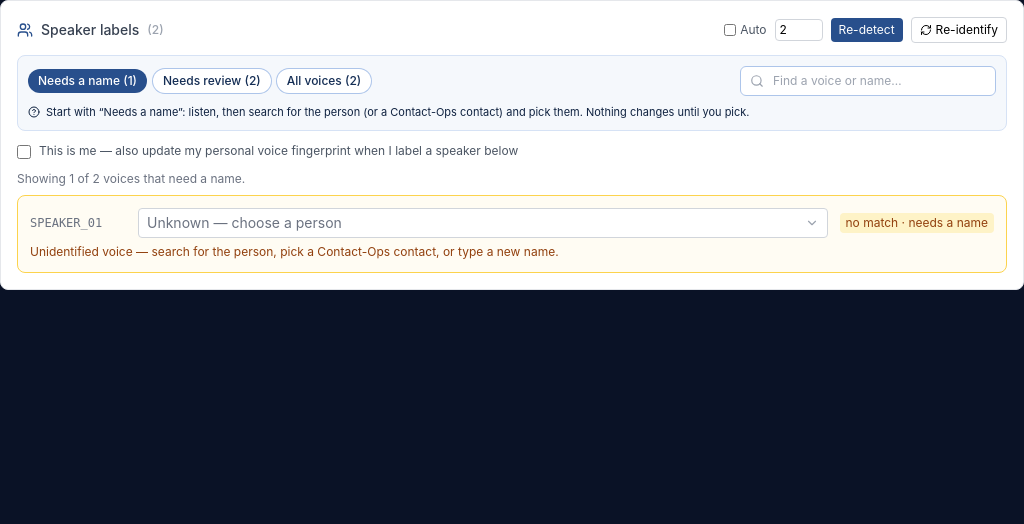
Test: SpeakerTagger › hides unnamed voiceprints until the search matches them
This screenshot has width=1024, height=524.
Expected: the text "SPEAKER_01" is shown, left=30, top=216, right=102, bottom=230
Click the button with aria-label "Speaker for SPEAKER_01".
click(244, 222)  # box left=138, top=208, right=828, bottom=238
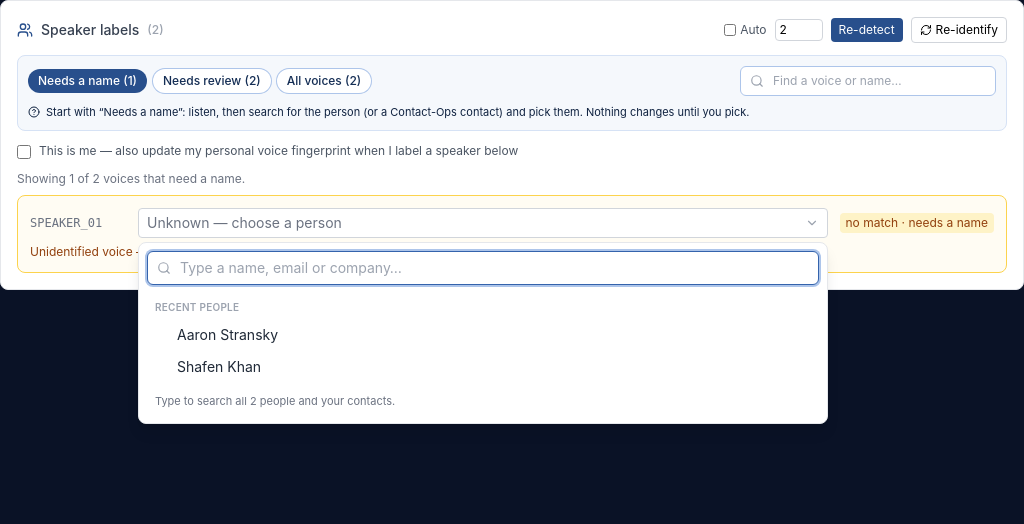
Expected: the option "Speaker 4E80" is not shown
Expected: the option "Aaron Stransky" is shown, left=177, top=326, right=278, bottom=343
Type "speaker 4e" into the dropdown named "Search people for Speaker for SPEAKER_01".
click(483, 268); type("speaker 4e")  # box left=147, top=251, right=818, bottom=285
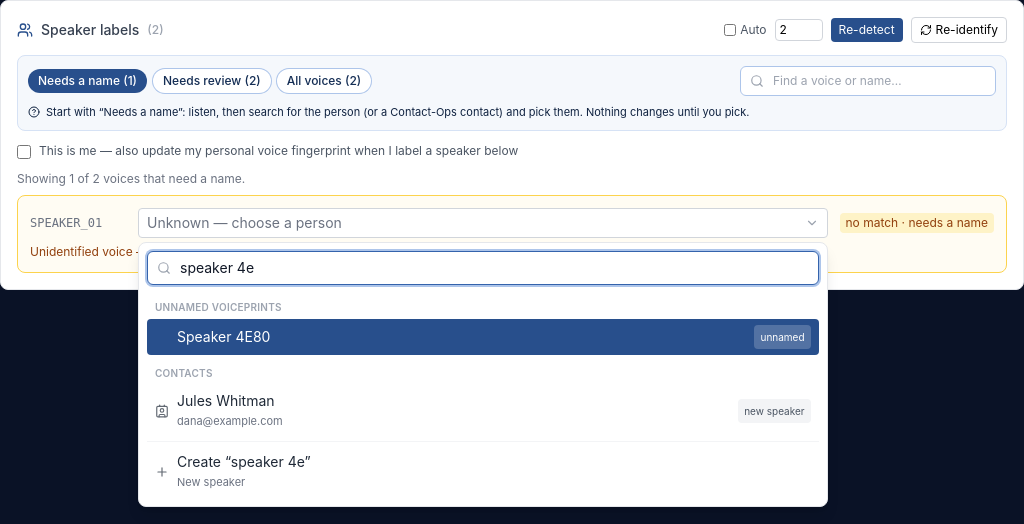
Expected: the option "Speaker 4E80 unnamed" is shown, left=147, top=319, right=818, bottom=355
Expected: the list item "Unnamed voiceprints" is shown, left=155, top=301, right=282, bottom=313
